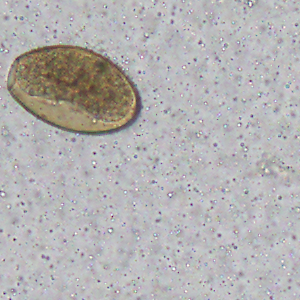Fasciola_hepatica_egg: (5, 43, 143, 136)
